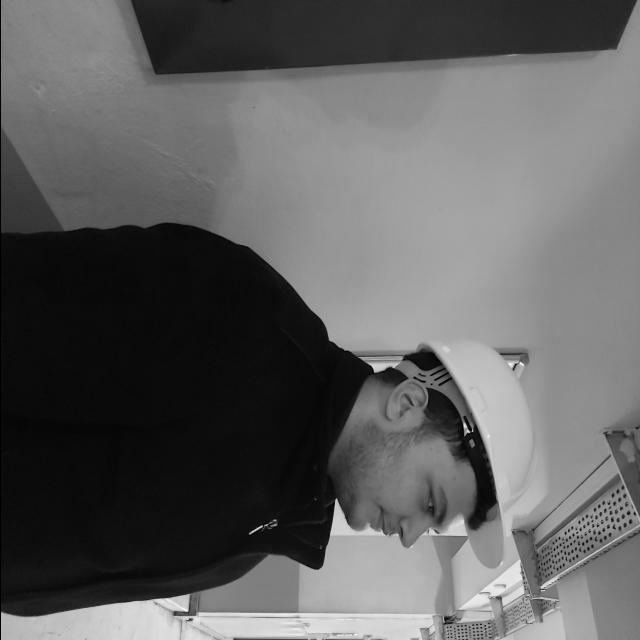construction helmet: (393, 338, 539, 568)
